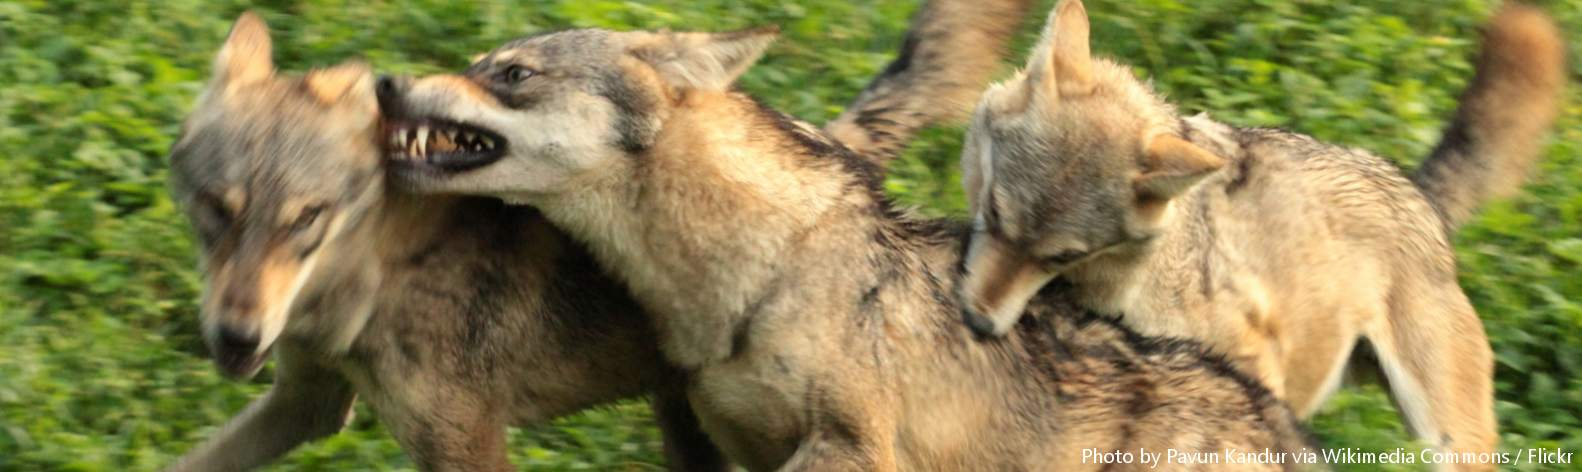wolf: (371, 26, 1268, 472), (929, 18, 1529, 463), (159, 13, 652, 472)
